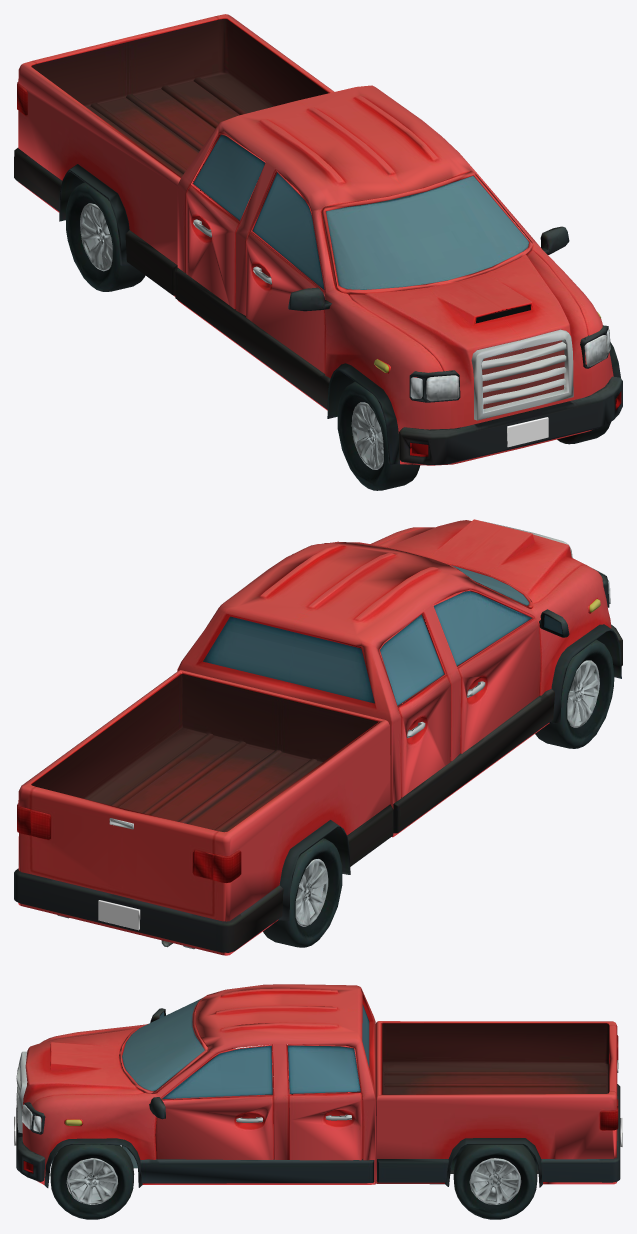
Rendered from pickup.glb.
3 views of the same model, one above another, from view 1: azimuth 30°, elevation 25°; view 2: azimuth 150°, elevation 25°; view 3: azimuth 270°, elevation 25° (orthographic). The views are drawn at different scales.
Parts seen in each view (by area): view 1: truck.1; view 2: truck.1; view 3: truck.1.
Boxes of the visible parts, left/top/right/bottom form: truck.1: left=14, top=14, right=622, bottom=490; truck.1: left=14, top=519, right=622, bottom=955; truck.1: left=14, top=984, right=622, bottom=1219.
Bounding box in the file's own units: 0.3929 × 0.3156 × 1.
Materials: 1 (1 with a texture image).
